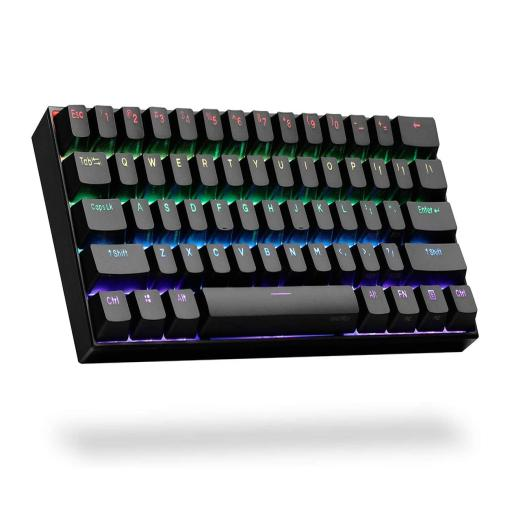KEYBOARD-2: (32, 105, 478, 362)
